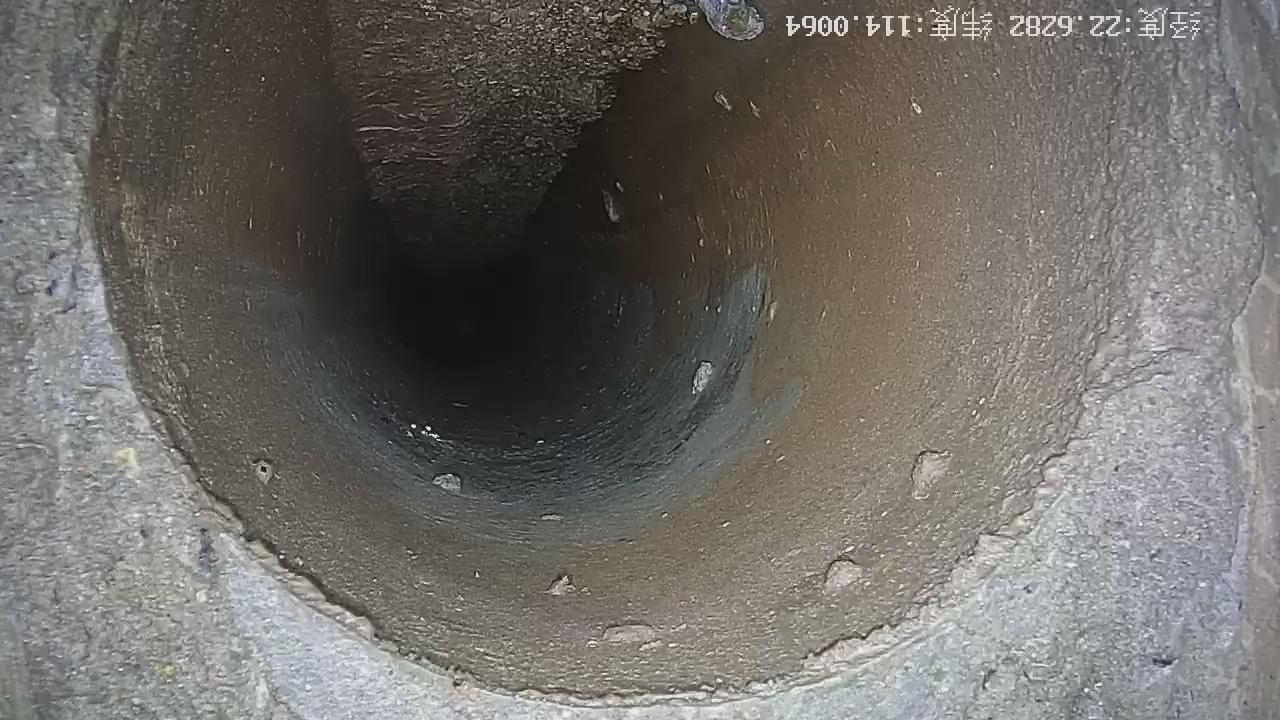CJ: (331, 1, 763, 256)
